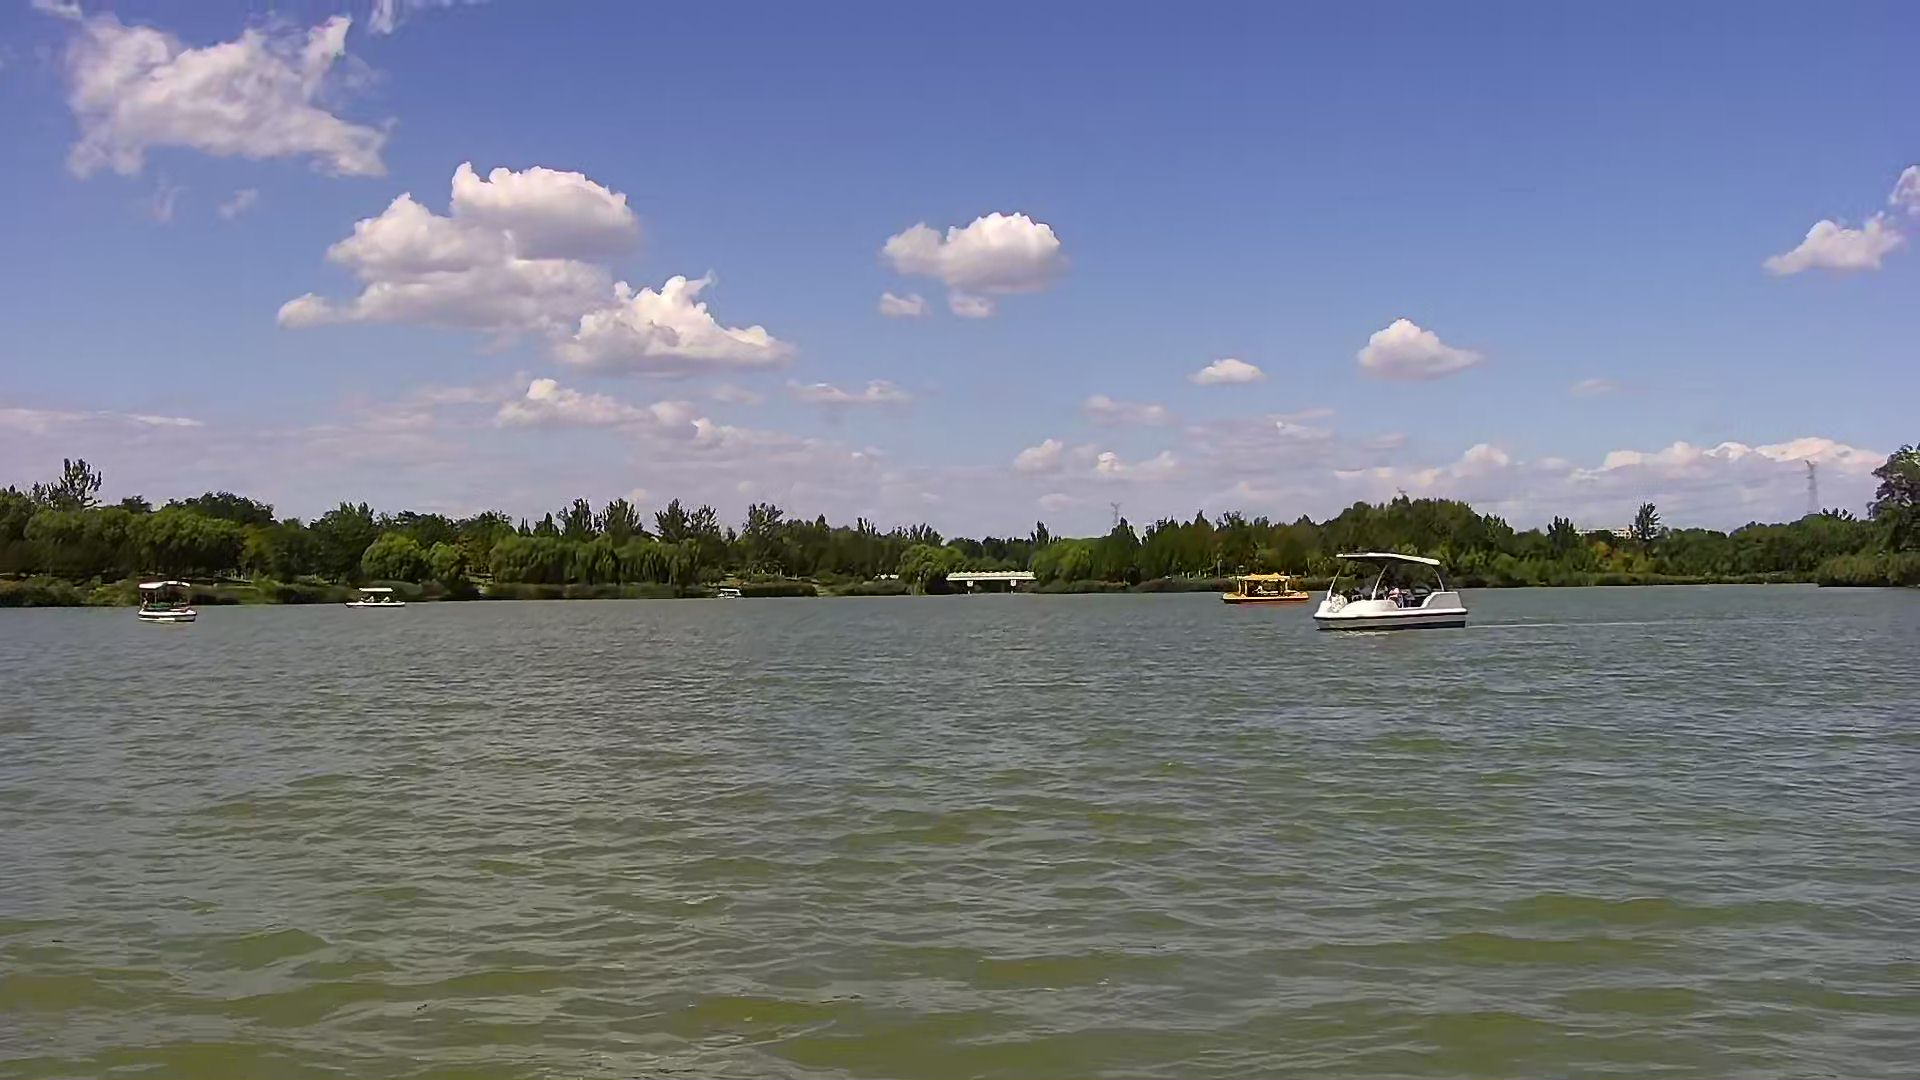boat: (1313, 553, 1464, 630), (1218, 572, 1308, 605), (137, 579, 195, 624), (345, 580, 393, 605)
bridge: (947, 568, 1030, 593)
